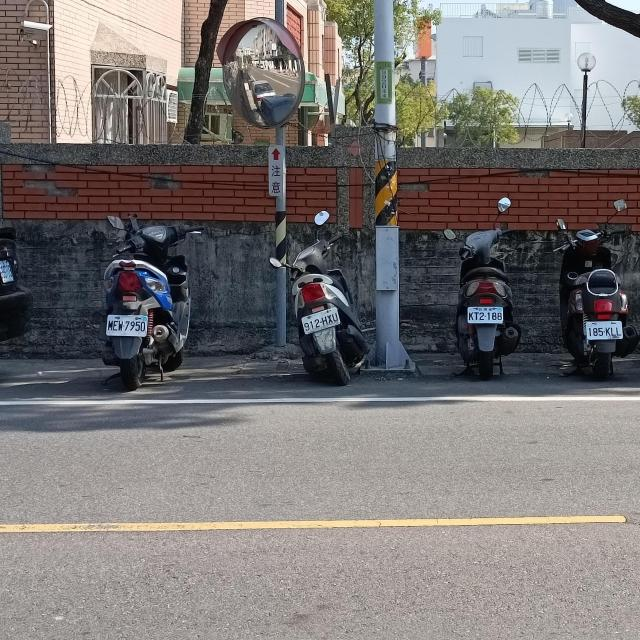W: (104, 313, 150, 338), (301, 308, 341, 334), (585, 321, 623, 340), (466, 306, 504, 323)
